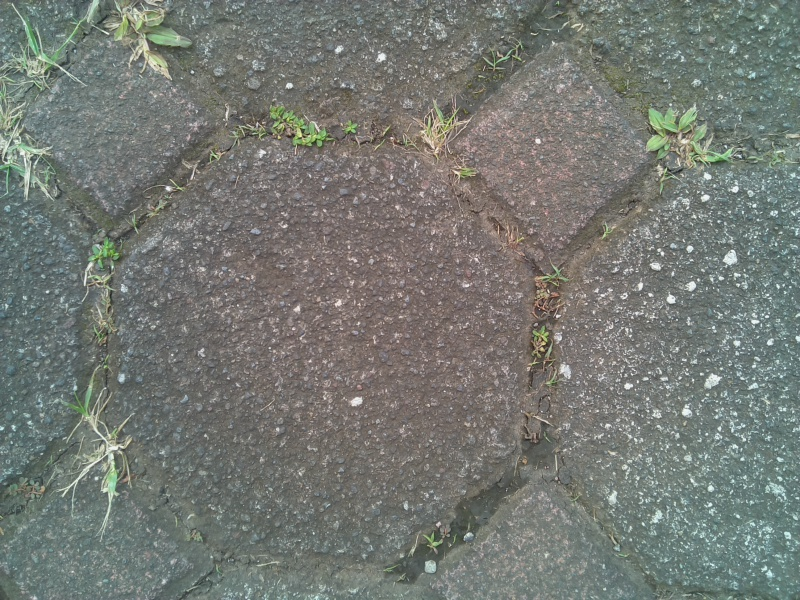Weed: (57, 381, 145, 508), (635, 101, 738, 189), (1, 107, 70, 207), (110, 1, 196, 81), (8, 20, 75, 96), (257, 98, 329, 156), (414, 101, 471, 155), (530, 258, 570, 316), (84, 304, 119, 353), (82, 234, 127, 272), (525, 323, 561, 368), (479, 47, 520, 78), (764, 143, 794, 174), (417, 526, 446, 558), (445, 160, 479, 187), (148, 194, 179, 218), (590, 219, 617, 244)
